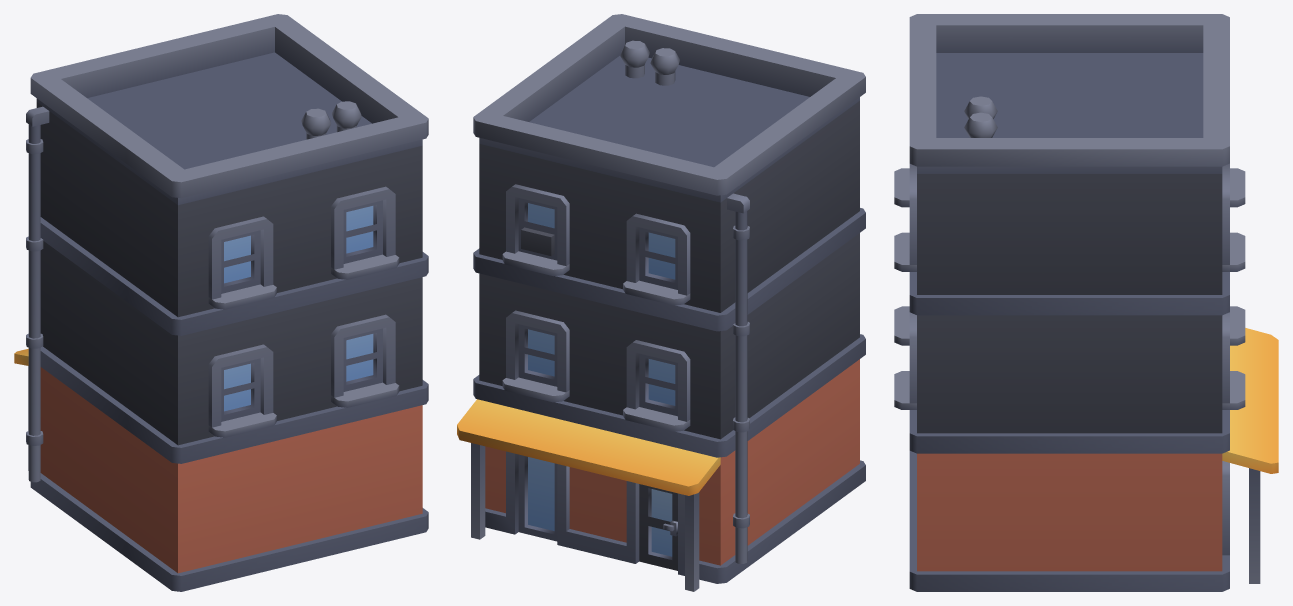
The model's file is building-h-b.glb.
3 views of the same model, side by side, from view 1: azimuth 30°, elevation 25°; view 2: azimuth 150°, elevation 25°; view 3: azimuth 270°, elevation 25° (orthographic). The views are drawn at different scales.
Parts seen in each view (by area): view 1: building-h; view 2: building-h; view 3: building-h.
Part boxes in pixels (bbox=[...]): building-h: bbox=[14, 14, 428, 591]; building-h: bbox=[457, 14, 865, 591]; building-h: bbox=[894, 14, 1278, 591].
Bounding box in the file's own units: 0.8836 × 1.29 × 1.01.
Materials: 1 (1 with a texture image).
